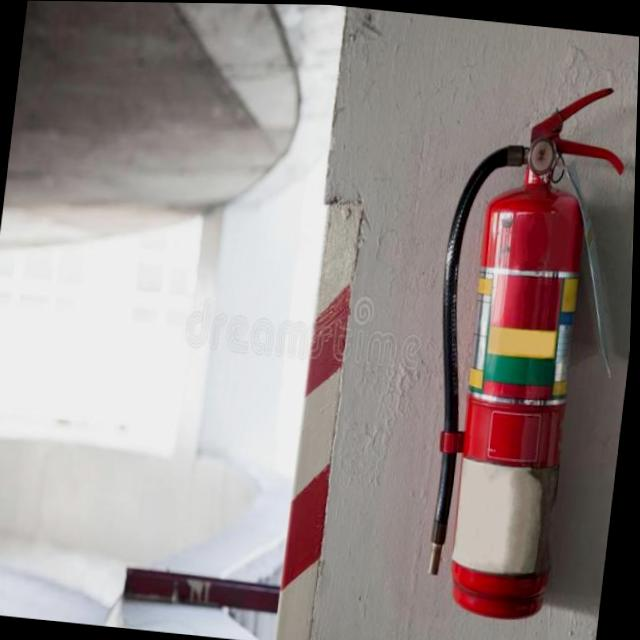FireExtinguisher: (402, 66, 636, 635)
